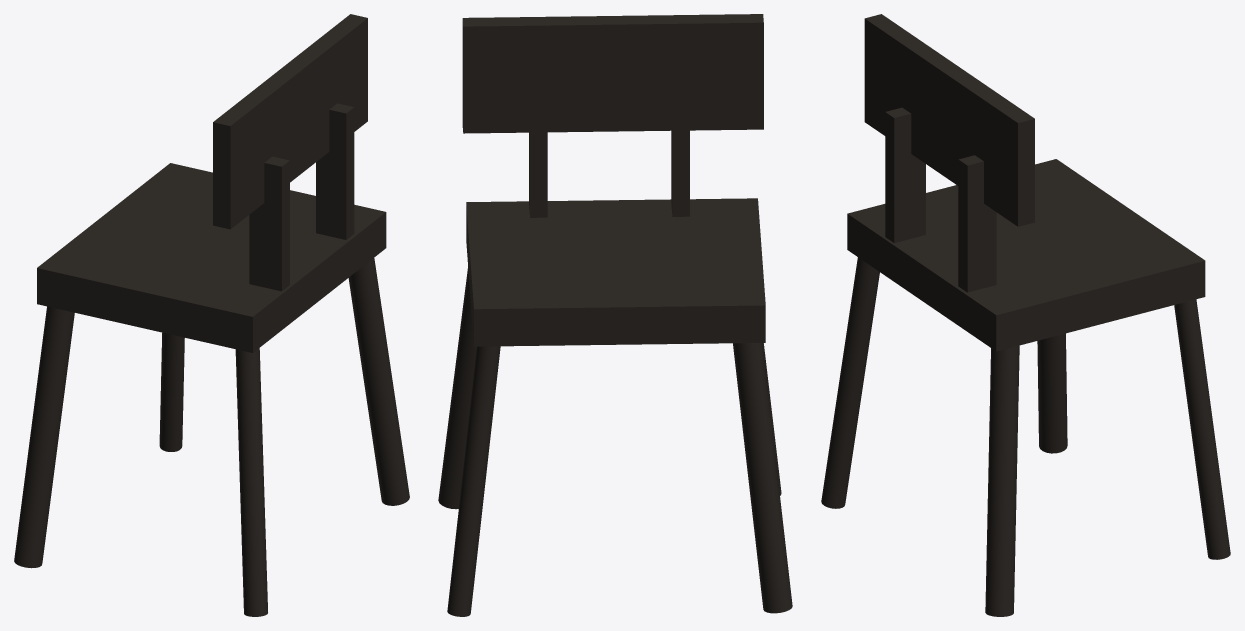
The model's file is silla.fbx.
The picture shows the model from 3 angles, left to right: view 1: azimuth 30°, elevation 25°; view 2: azimuth 150°, elevation 25°; view 3: azimuth 270°, elevation 25°; orthographic projection. The views are drawn at different scales.
Visible parts, largest first — view 1: silla; view 2: silla; view 3: silla.
Part boxes in pixels (bbox=[...]): silla: bbox=[14, 14, 409, 616]; silla: bbox=[438, 14, 792, 616]; silla: bbox=[821, 14, 1230, 616].
Bounding box in the file's own units: 91.35 × 115 × 88.43.
Materials: 1 (1 with a texture image).
